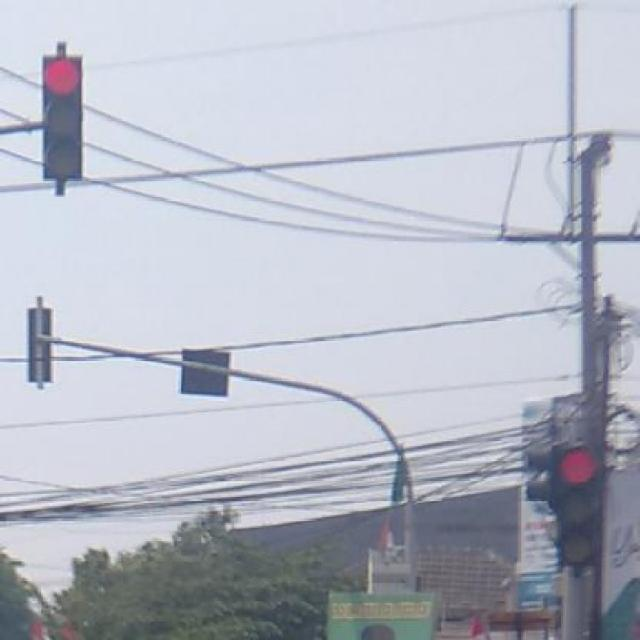traffic light: (551, 446, 603, 571), (43, 55, 82, 178)
